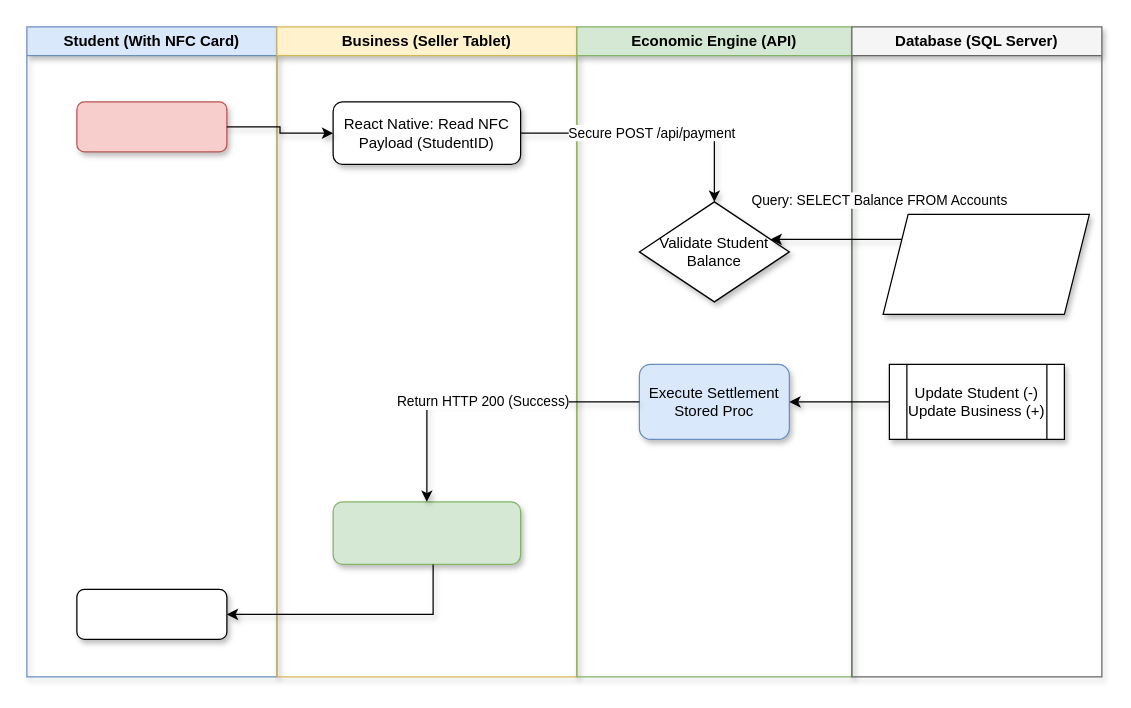
This 1131x708 diagram has some shape labels left out. The centre of each missing label's shape, as x and y in pixels:
Check Updated Balance on Tablet: point 152,615
Physical Tap of NFC Card: point 152,128
Return Balance >= $5.00: point 987,265
Show Green Checkmark "Payment Successful": point 427,534
